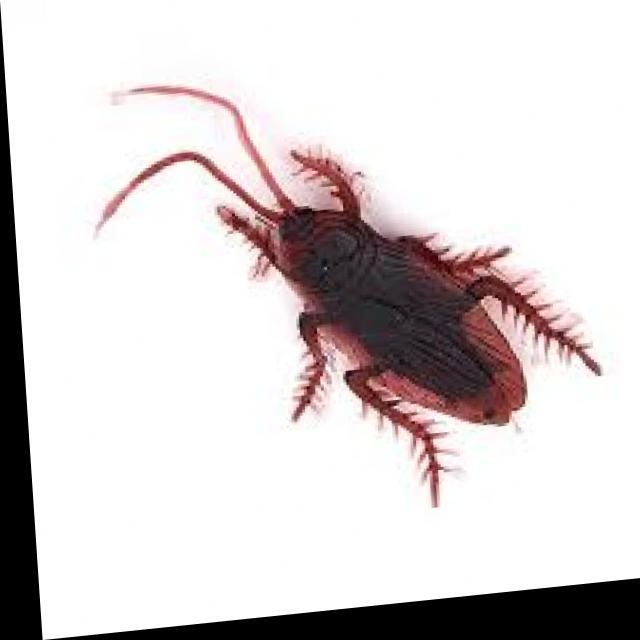Cockroach: (84, 57, 640, 545)
